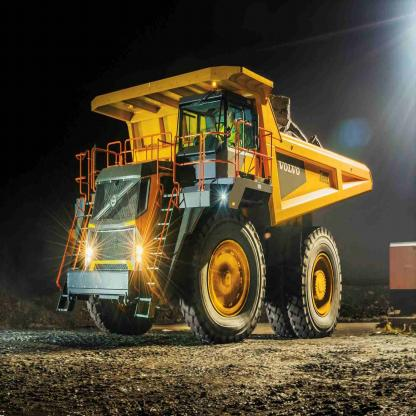dump_truck: (57, 71, 379, 340)
